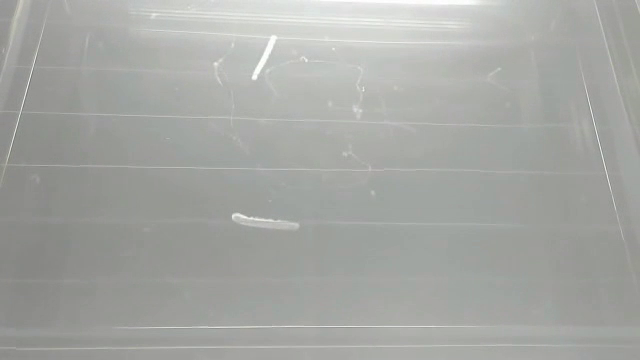alpha: (228, 207, 303, 236), (249, 33, 279, 84)
